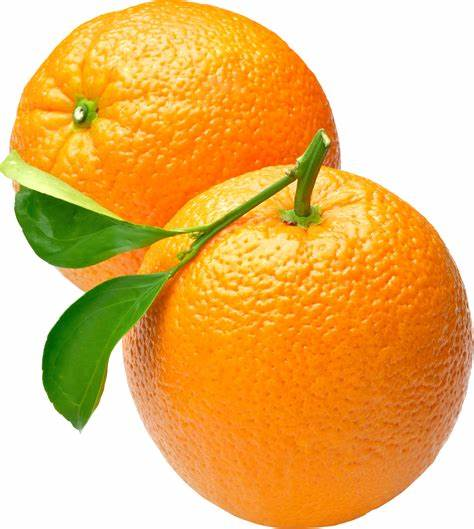Orange: (101, 156, 472, 527), (4, 0, 347, 332)
